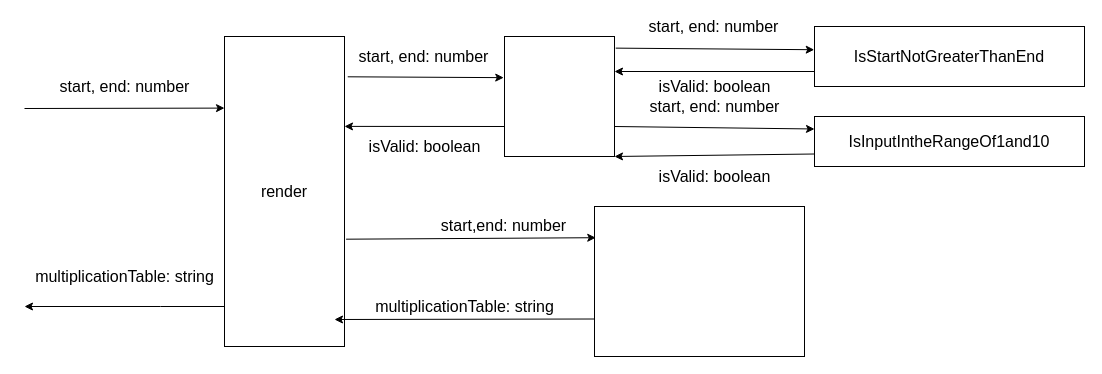
Image size: 1102x374. Some labels were removed from this diagram. Each missing label, with the centre of its shape:
"GenerateMultiplicationTable" goes at (x=699, y=281).
"IsInputVaild" goes at (x=559, y=96).
